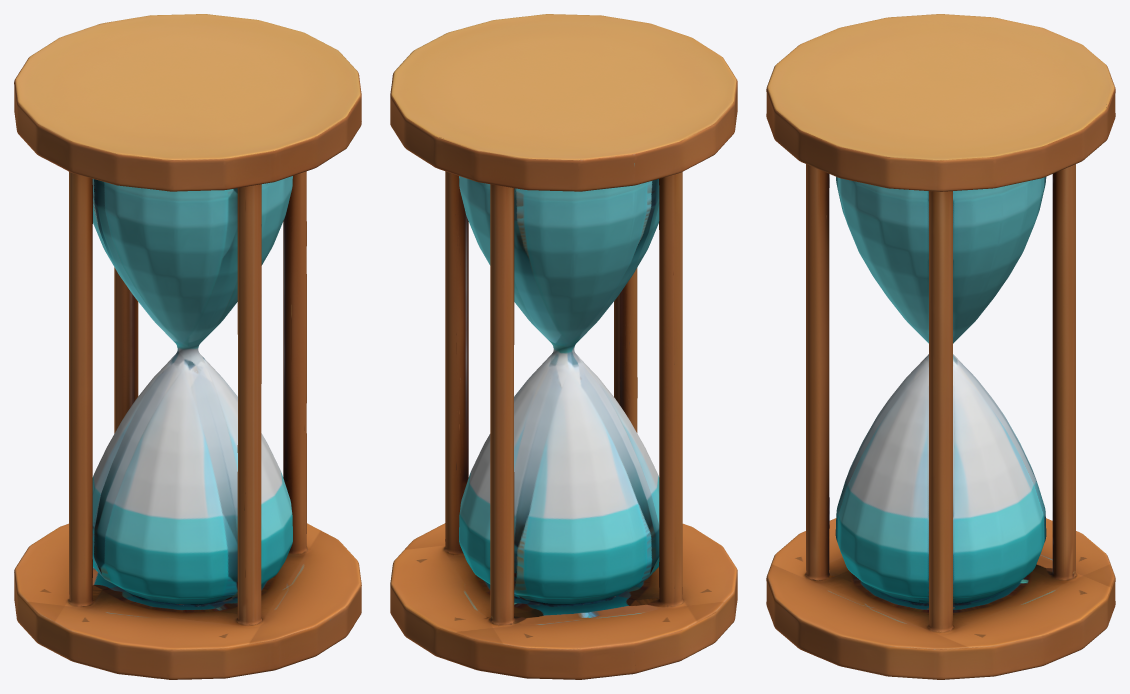
The model's file is Simple blue sand hourglass.fbx.
The picture shows the model from 3 angles, left to right: view 1: azimuth 30°, elevation 25°; view 2: azimuth 150°, elevation 25°; view 3: azimuth 270°, elevation 25°; orthographic projection.
Parts seen in each view (by area): view 1: Simple blue sand hourglass; view 2: Simple blue sand hourglass; view 3: Simple blue sand hourglass.
Boxes of the visible parts, x1=… form: Simple blue sand hourglass: x1=14, y1=14, x2=361, y2=679; Simple blue sand hourglass: x1=390, y1=14, x2=737, y2=679; Simple blue sand hourglass: x1=766, y1=14, x2=1115, y2=679.
Bounding box in the file's own units: 116 × 190 × 116.
